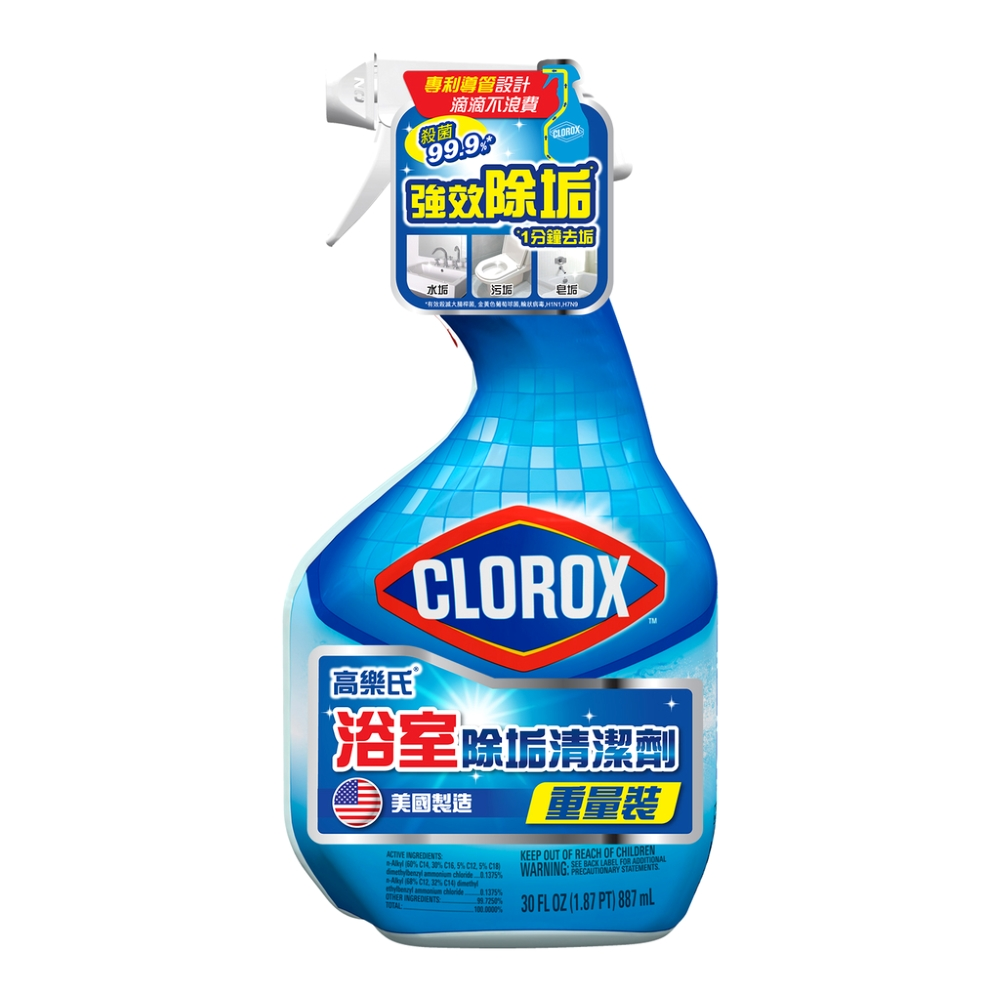cleaner: (273, 56, 728, 962)
